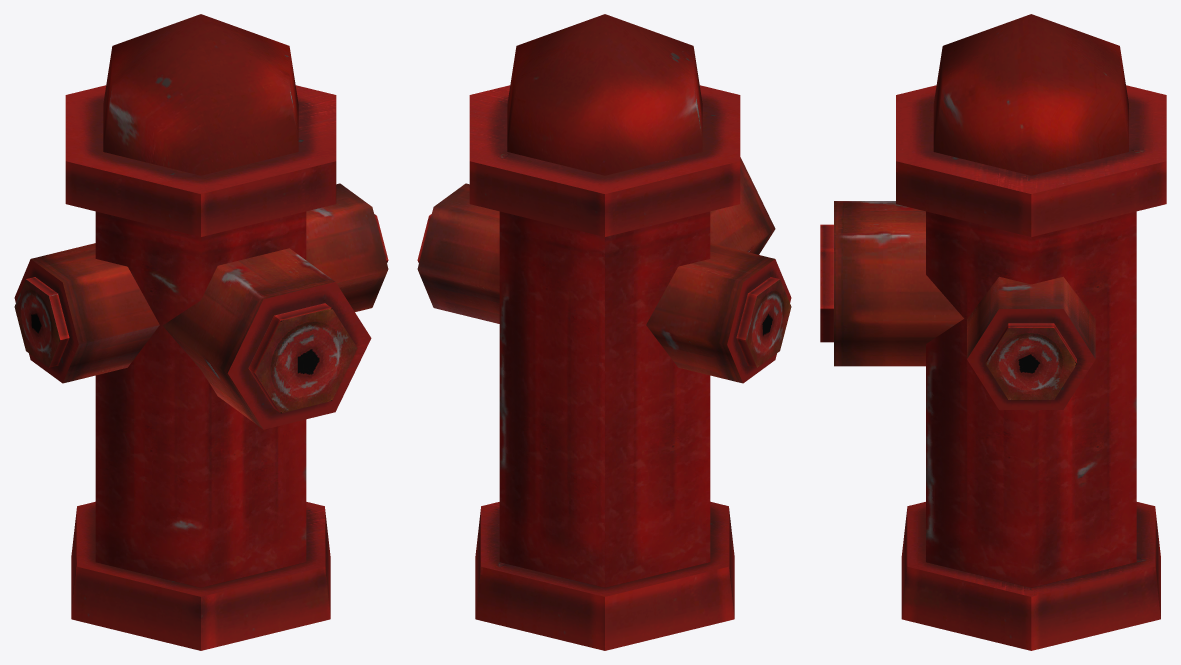
File: hydrant.FBX
3 renders of one model, left to right at view 1: azimuth 30°, elevation 25°; view 2: azimuth 150°, elevation 25°; view 3: azimuth 270°, elevation 25°, orthographic.
Visible parts, largest first — view 1: Cylinder01; view 2: Cylinder01; view 3: Cylinder01.
Part boxes in pixels (box(x1,y1,x2,y2)): Cylinder01: box(14, 14, 388, 650); Cylinder01: box(417, 14, 791, 650); Cylinder01: box(820, 14, 1166, 650).
Size of the model in its own units: 4.8 by 8.02 by 4.39.
Materials: 1 (1 with a texture image).
